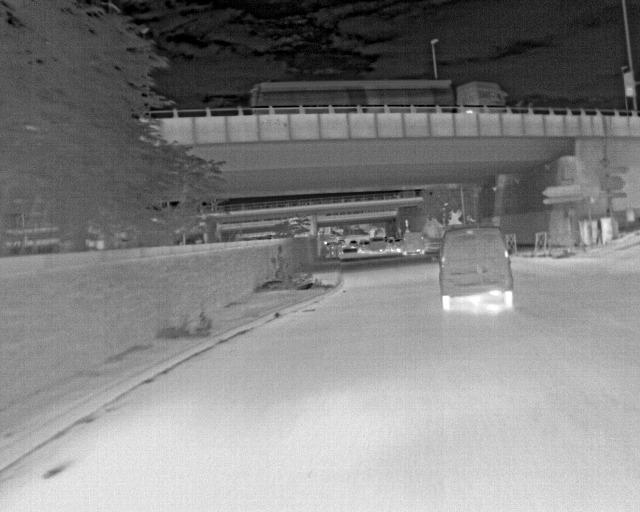car: (251, 78, 509, 114), (431, 225, 512, 311), (400, 232, 424, 255), (423, 237, 443, 255), (338, 244, 358, 261), (370, 237, 386, 253), (357, 240, 373, 254), (384, 237, 396, 253), (326, 242, 342, 252), (394, 238, 404, 253), (349, 240, 359, 248), (338, 240, 346, 244)
light: (624, 73, 635, 97), (405, 220, 408, 227)
sign: (542, 186, 582, 196), (599, 176, 625, 190), (542, 197, 585, 205), (599, 167, 629, 174), (606, 193, 628, 198)
